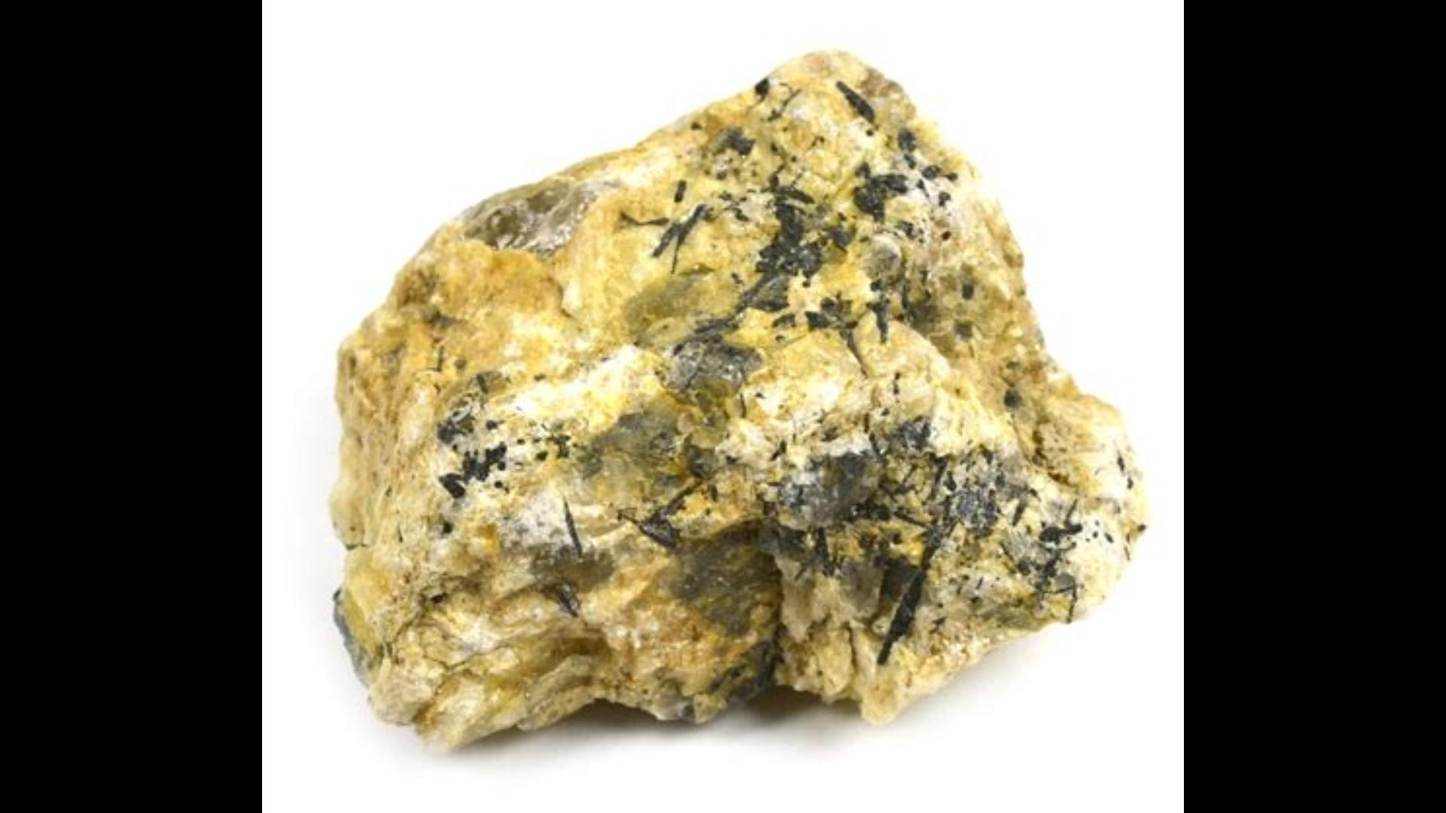rock: (336, 54, 1144, 743)
